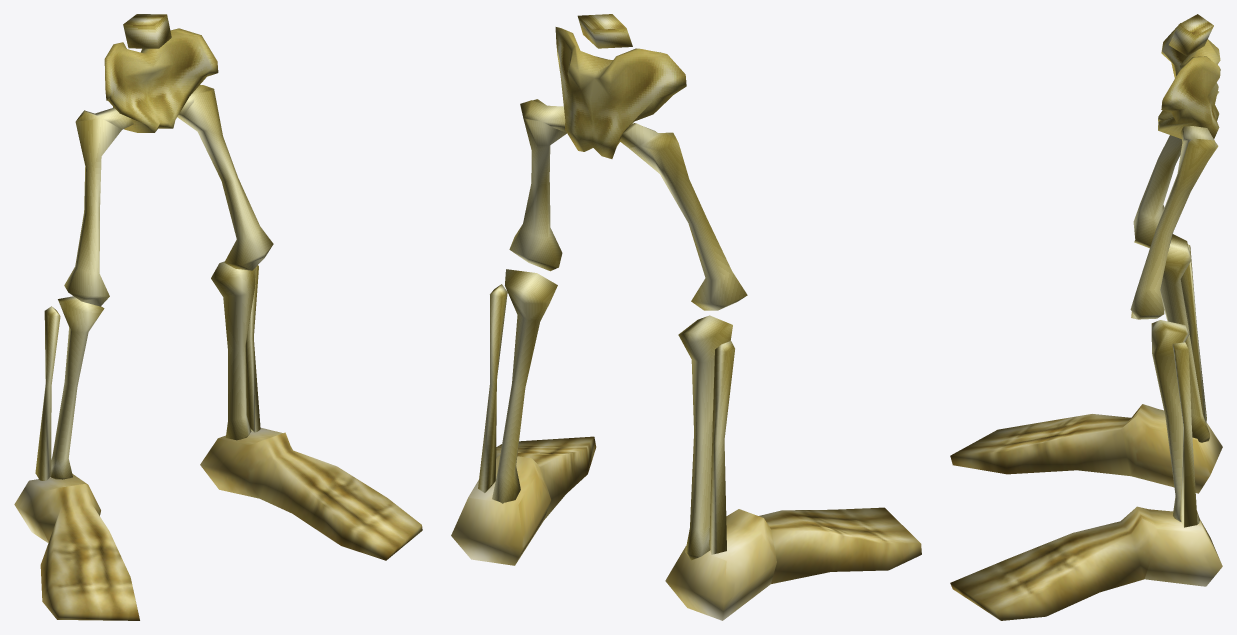
The model's file is CrashSkeletonPiernas2.obj.
3 views of the same model, side by side, from view 1: azimuth 30°, elevation 25°; view 2: azimuth 150°, elevation 25°; view 3: azimuth 270°, elevation 25° (orthographic). The views are drawn at different scales.
Parts seen in each view (by area): view 1: CrashSkeleton.002; view 2: CrashSkeleton.002; view 3: CrashSkeleton.002.
Part boxes in pixels (<box>): CrashSkeleton.002: <box>14,14,422,620</box>; CrashSkeleton.002: <box>451,14,921,620</box>; CrashSkeleton.002: <box>950,14,1222,620</box>.
Size of the model in its own units: 2.12 by 2.72 by 1.33.
